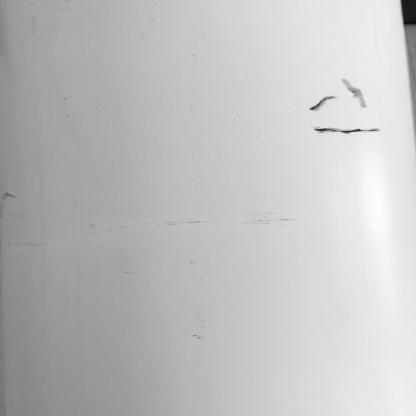fengxi: (342, 77, 370, 110), (314, 127, 379, 137), (310, 94, 336, 112)
